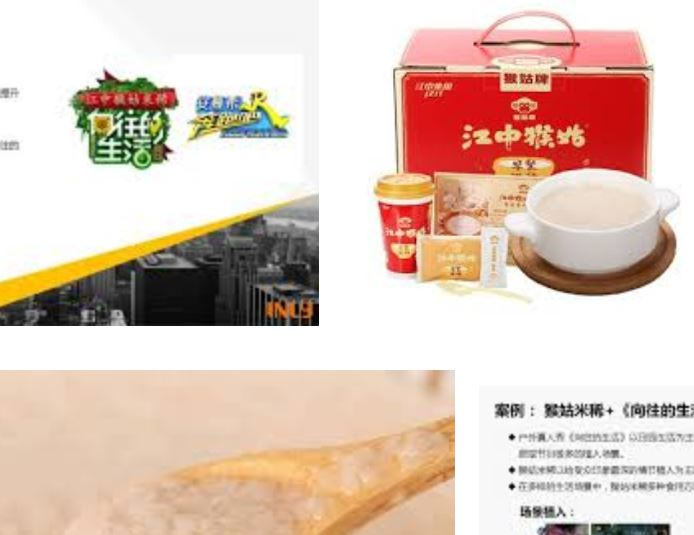box: (394, 30, 656, 178)
cup: (374, 171, 435, 274)
